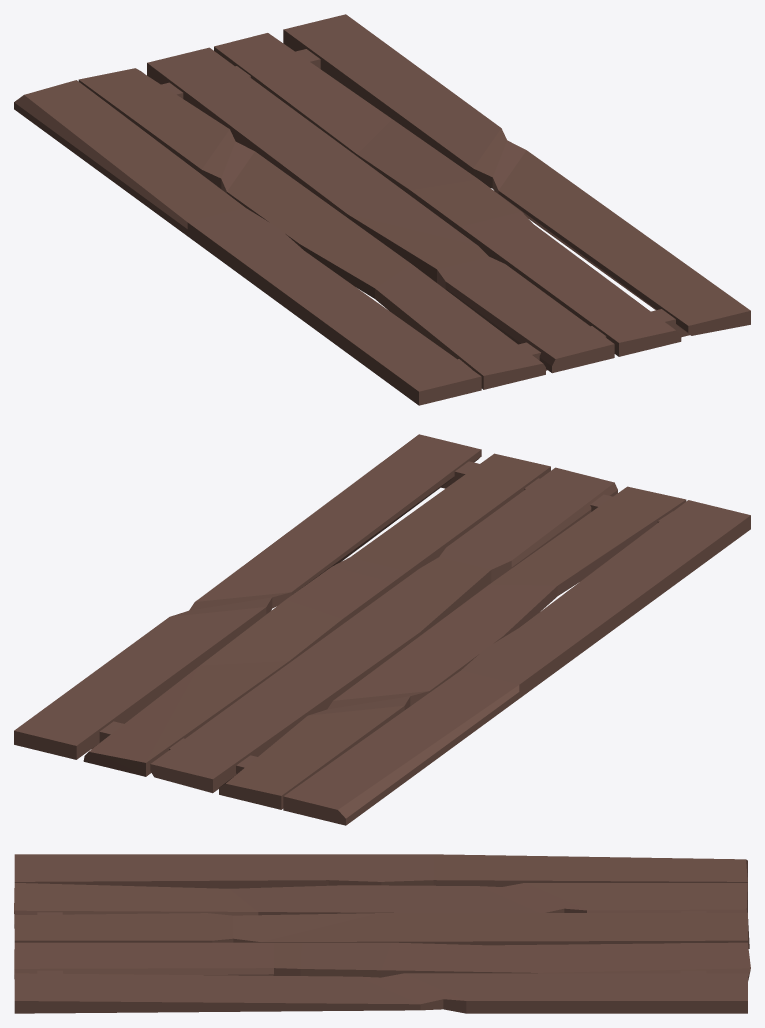
Rendered from Floor.glb.
3 views of the same model, one above another, from view 1: azimuth 30°, elevation 25°; view 2: azimuth 150°, elevation 25°; view 3: azimuth 270°, elevation 25° (orthographic). The views are drawn at different scales.
Parts seen in each view (by area): view 1: Table_Big; view 2: Table_Big; view 3: Table_Big.
Boxes of the visible parts, x1,y1,x2,y2 form: Table_Big: (14, 14, 750, 405); Table_Big: (14, 434, 750, 825); Table_Big: (14, 854, 750, 1013).
Bounding box in the file's own units: 1.56 × 0.1025 × 3.3.
